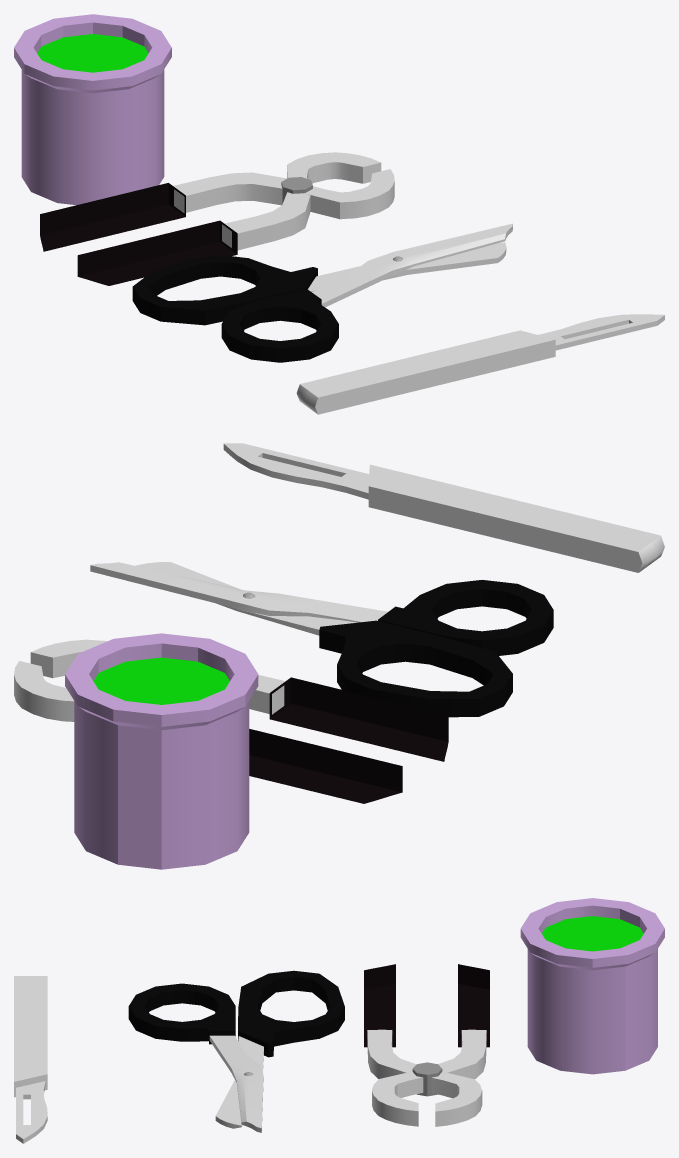
Rendered from Tesoura.fbx.
3 renders of one model, top to bottom at view 1: azimuth 30°, elevation 25°; view 2: azimuth 150°, elevation 25°; view 3: azimuth 270°, elevation 25°, orthographic. The views are drawn at different scales.
Parts seen in each view (by area): view 1: Container de Ervas, Alicate, Tesoura, Bisturi; view 2: Container de Ervas, Tesoura, Alicate, Bisturi; view 3: Container de Ervas, Tesoura, Alicate, Bisturi.
Part boxes in pixels (x1,y1,x2,y2): Container de Ervas: [14, 14, 171, 205]; Alicate: [40, 152, 394, 285]; Tesoura: [132, 223, 512, 362]; Bisturi: [296, 314, 664, 414]; Container de Ervas: [65, 633, 258, 869]; Tesoura: [90, 562, 553, 717]; Alicate: [14, 639, 448, 803]; Bisturi: [223, 443, 664, 572]; Container de Ervas: [520, 898, 664, 1074]; Tesoura: [128, 970, 344, 1132]; Alicate: [364, 964, 489, 1126]; Bisturi: [14, 976, 47, 1143].
Bounding box in the file's own units: 140 × 45.01 × 224.
